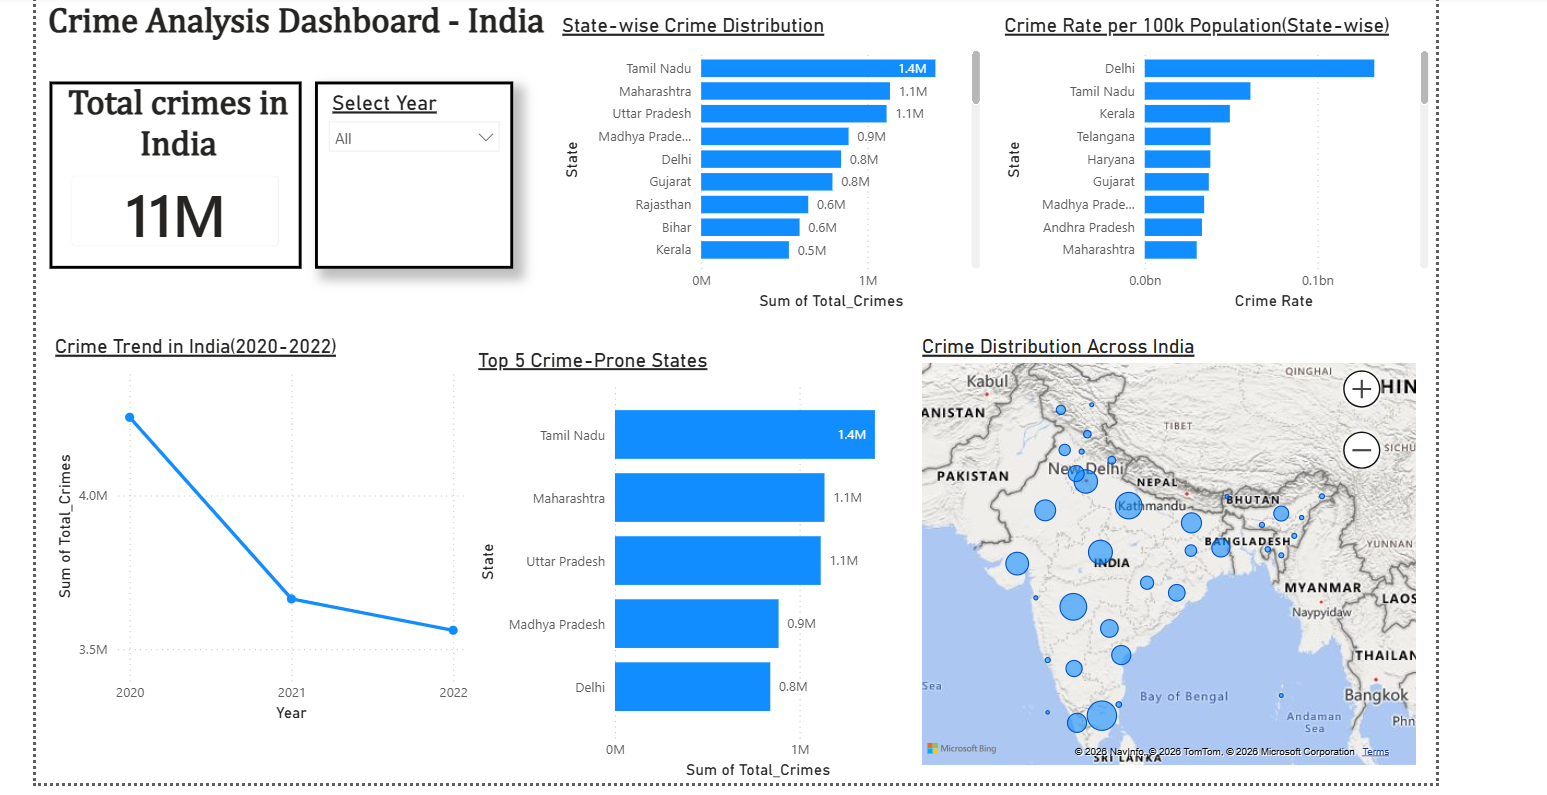

What the dashboard file says about the page in this screenshot:
{"tool":"powerbi","page":{"name":"Page 1","canvas":[1280,720],"ordinal":0},"visuals":[{"type":"cardVisual","title":"Total crimes in India","fields":{"Data":["Sum(NCRB_Table_1A 1.Total_Crimes)"]},"box":[12.4,78.2,230.6,171.5],"z":0},{"type":"lineChart","title":"Crime Trend in India(2020-2022)","fields":{"Category":["NCRB_Table_1A 1.Year"],"Y":["Sum(NCRB_Table_1A 1.Total_Crimes)"]},"box":[12.4,310.1,387,358.2],"z":1000},{"type":"textbox","box":[0,0,476.2,56.3],"z":2000},{"type":"clusteredBarChart","title":"Crime Rate per 100k Population(State-wise)","fields":{"Category":["NCRB_Table_1A 1.State"],"Y":["NCRB_Table_1A 1.Crime Rate"]},"box":[881,16.5,398,274.5],"z":4000},{"type":"clusteredBarChart","title":"State-wise Crime Distribution","fields":{"Category":["NCRB_Table_1A 1.State"],"Y":["Sum(NCRB_Table_1A 1.Total_Crimes)"]},"box":[476.2,16.5,392.5,274.5],"z":5000},{"type":"slicer","fields":{"Values":["NCRB_Table_1A 1.Year"]},"box":[255.3,78.2,181.1,171.5],"z":6000},{"type":"clusteredBarChart","title":"Top 5 Crime-Prone States","fields":{"Category":["NCRB_Table_1A 1.State"],"Y":["Sum(NCRB_Table_1A 1.Total_Crimes)"]},"box":[399.3,322.5,406.2,398],"z":6001},{"type":"map","title":"Crime Distribution Across India","fields":{"Category":["NCRB_Table_1A 1.State"],"Size":["Sum(NCRB_Table_1A 1.Total_Crimes)"]},"box":[805.6,310.1,462.5,398],"z":6002}]}

Visuals, with their boxes on the page's 1280x720 design canvas (x1, y1, x2, y2). These are canvas units, not pixel positions in the 1547x795 screenshot, which may show the page scaled, cropped or inside an application window:
"Total crimes in India" cardVisual: {"x1": 12, "y1": 78, "x2": 243, "y2": 250}
"Crime Trend in India(2020-2022)" lineChart: {"x1": 12, "y1": 310, "x2": 399, "y2": 668}
textbox: {"x1": 0, "y1": 0, "x2": 476, "y2": 56}
"Crime Rate per 100k Population(State-wise)" clusteredBarChart: {"x1": 881, "y1": 16, "x2": 1279, "y2": 291}
"State-wise Crime Distribution" clusteredBarChart: {"x1": 476, "y1": 16, "x2": 869, "y2": 291}
slicer - NCRB_Table_1A 1.Year: {"x1": 255, "y1": 78, "x2": 436, "y2": 250}
"Top 5 Crime-Prone States" clusteredBarChart: {"x1": 399, "y1": 322, "x2": 806, "y2": 720}
"Crime Distribution Across India" map: {"x1": 806, "y1": 310, "x2": 1268, "y2": 708}
